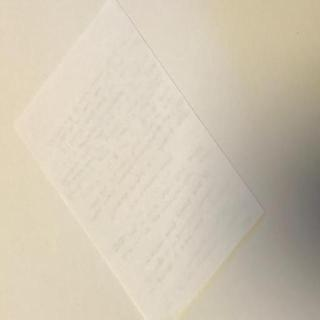Anorganik: (15, 4, 265, 320)
